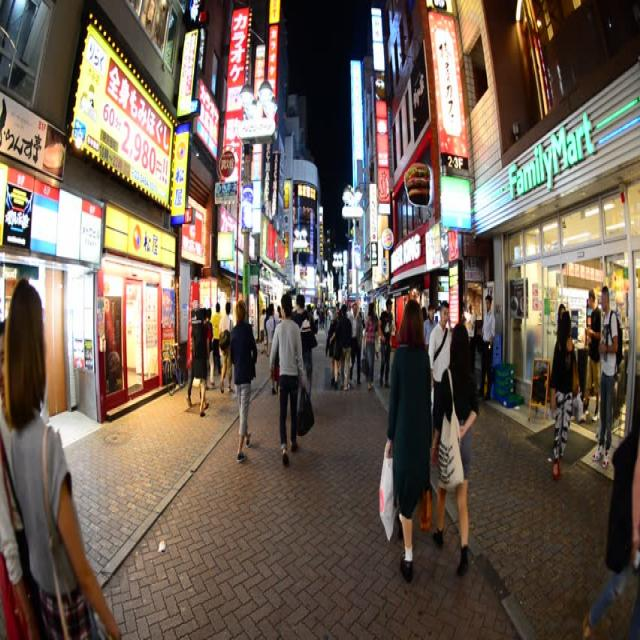body: (0, 273, 130, 639), (385, 297, 434, 587), (580, 409, 640, 640), (430, 319, 481, 577), (0, 314, 40, 640), (268, 291, 316, 468), (546, 309, 585, 483), (590, 282, 625, 470), (228, 298, 260, 466), (427, 298, 454, 466), (291, 292, 319, 400), (580, 287, 602, 424), (306, 296, 366, 343), (190, 304, 212, 417), (476, 292, 497, 401), (376, 296, 394, 391), (324, 306, 344, 391), (362, 299, 380, 392), (218, 301, 234, 395), (348, 302, 364, 389), (185, 307, 198, 408), (339, 304, 353, 392), (264, 300, 284, 357), (209, 301, 223, 379), (204, 305, 216, 391), (422, 302, 440, 349), (258, 308, 267, 356), (554, 301, 566, 335), (264, 307, 269, 353), (276, 302, 282, 318)
